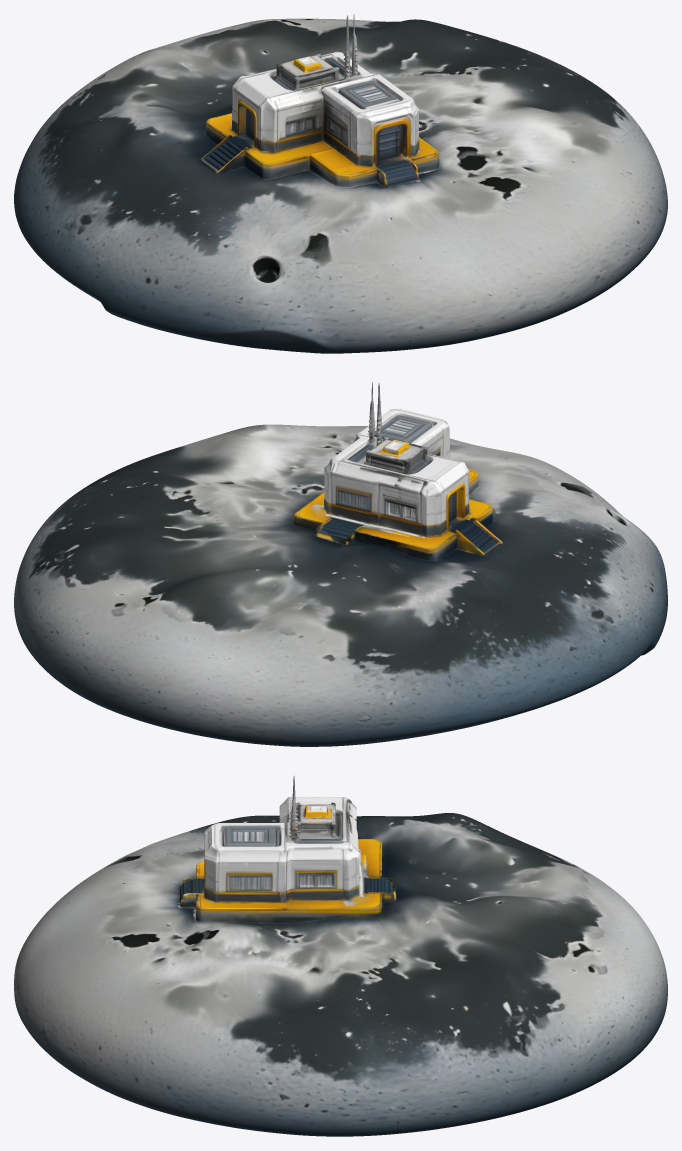
Rendered from moon_base_20260524.glb.
The picture shows the model from 3 angles, top to bottom: view 1: azimuth 30°, elevation 25°; view 2: azimuth 150°, elevation 25°; view 3: azimuth 270°, elevation 25°; orthographic projection.
Parts seen in each view (by area): view 1: node_0; view 2: node_0; view 3: node_0.
Part boxes in pixels (bbox=[...]): node_0: bbox=[14, 14, 667, 353]; node_0: bbox=[14, 382, 667, 746]; node_0: bbox=[14, 775, 667, 1136].
Size of the model in its own units: 1.12 by 0.4197 by 1.12.
1 material, 1 textured.
